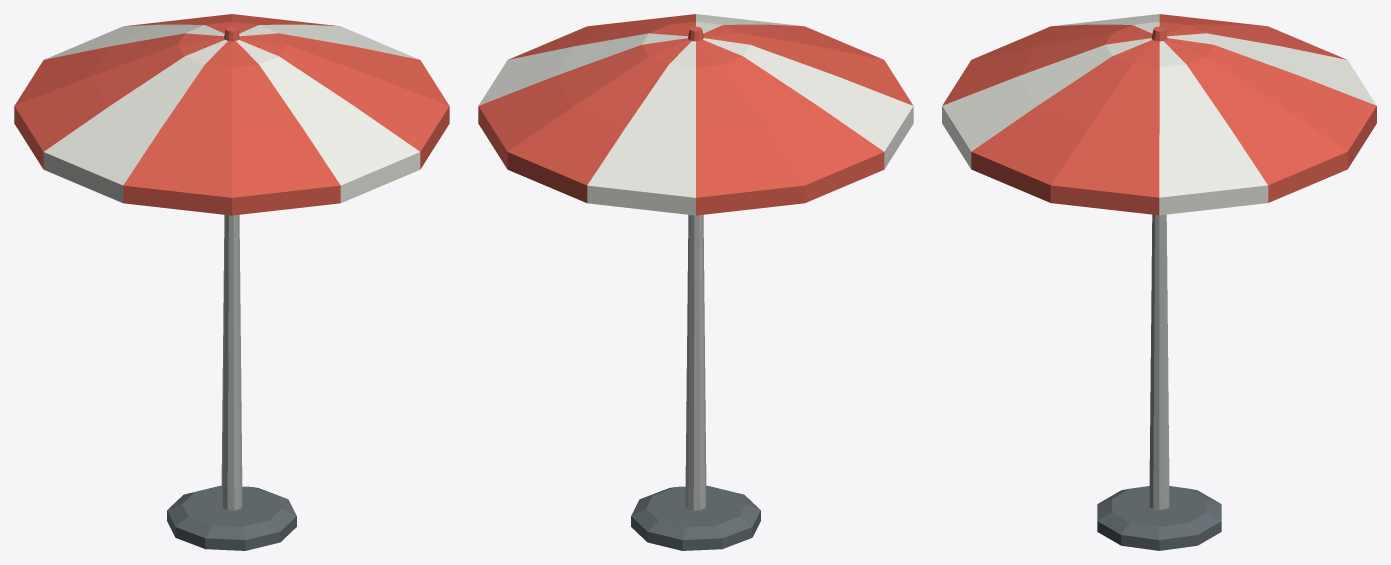
The model's file is Patio_Umbrella.fbx.
3 views of the same model, side by side, from view 1: azimuth 30°, elevation 25°; view 2: azimuth 150°, elevation 25°; view 3: azimuth 270°, elevation 25° (orthographic).
Visible parts, largest first — view 1: Patio_Umbrella__Umbrella_Canopy__LPCXFER, Patio_Umbrella__LPCXFER, Patio_Umbrella__Umbrella_Pole__LPCXFER; view 2: Patio_Umbrella__Umbrella_Canopy__LPCXFER, Patio_Umbrella__LPCXFER, Patio_Umbrella__Umbrella_Pole__LPCXFER; view 3: Patio_Umbrella__Umbrella_Canopy__LPCXFER, Patio_Umbrella__LPCXFER, Patio_Umbrella__Umbrella_Pole__LPCXFER.
Part boxes in pixels (x1,y1,x2,y2): Patio_Umbrella__Umbrella_Canopy__LPCXFER: [14, 14, 449, 215]; Patio_Umbrella__LPCXFER: [167, 485, 296, 550]; Patio_Umbrella__Umbrella_Pole__LPCXFER: [221, 215, 242, 510]; Patio_Umbrella__Umbrella_Canopy__LPCXFER: [478, 14, 913, 215]; Patio_Umbrella__LPCXFER: [631, 485, 760, 550]; Patio_Umbrella__Umbrella_Pole__LPCXFER: [685, 215, 706, 510]; Patio_Umbrella__Umbrella_Canopy__LPCXFER: [942, 14, 1376, 215]; Patio_Umbrella__LPCXFER: [1097, 486, 1221, 550]; Patio_Umbrella__Umbrella_Pole__LPCXFER: [1149, 214, 1169, 509].
Bounding box in the file's own units: 200 × 251 × 200.
